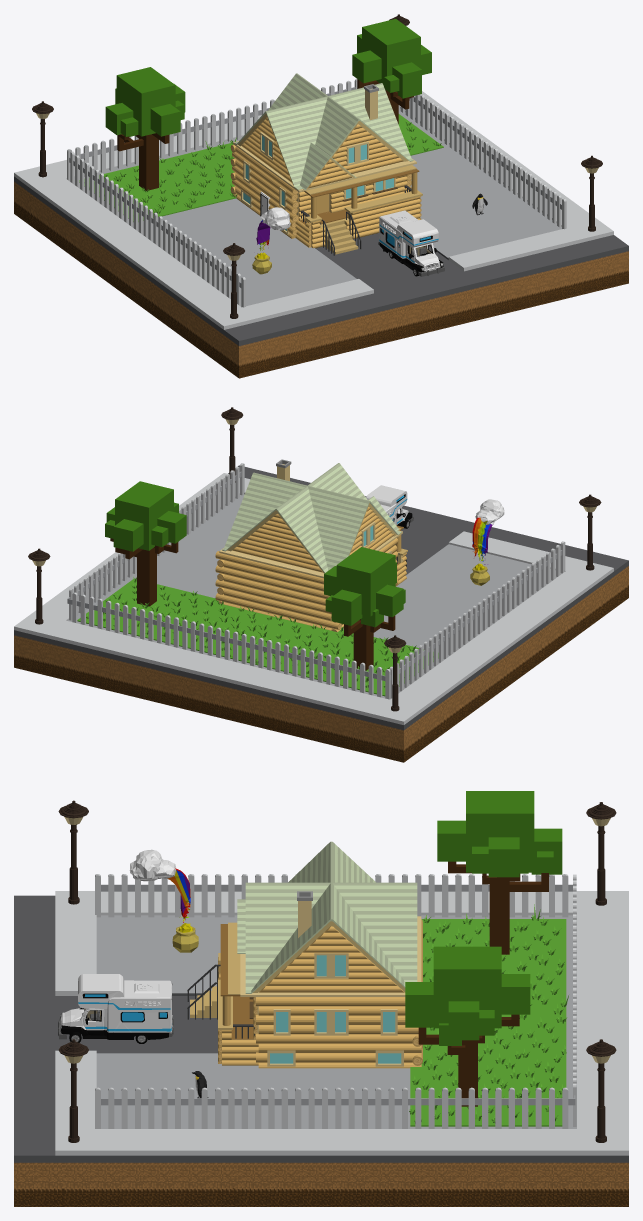
3 renders of one model, top to bottom at view 1: azimuth 30°, elevation 25°; view 2: azimuth 150°, elevation 25°; view 3: azimuth 270°, elevation 25°, orthographic. The views are drawn at different scales.
Visible parts, largest first — view 1: Cube.004, Cube.1516, VEHICLES_CAMPER, OBJRANDOM_RAINBOW; view 2: Cube.004, Cube.1516, OBJRANDOM_RAINBOW, VEHICLES_CAMPER; view 3: Cube.004, Cube.1516, VEHICLES_CAMPER, OBJRANDOM_RAINBOW.
Part boxes in pixels (x1=…): Cube.004: x1=14, y1=14, x2=628, y2=378; Cube.1516: x1=230, y1=73, x2=422, y2=255; VEHICLES_CAMPER: x1=378, y1=210, x2=444, y2=276; OBJRANDOM_RAINBOW: x1=252, y1=207, x2=290, y2=274; Cube.004: x1=14, y1=407, x2=628, y2=762; Cube.1516: x1=215, y1=459, x2=407, y2=632; OBJRANDOM_RAINBOW: x1=470, y1=499, x2=504, y2=585; VEHICLES_CAMPER: x1=366, y1=485, x2=413, y2=528; Cube.004: x1=14, y1=791, x2=628, y2=1206; Cube.1516: x1=187, y1=841, x2=422, y2=1068; VEHICLES_CAMPER: x1=58, y1=974, x2=173, y2=1043; OBJRANDOM_RAINBOW: x1=129, y1=849, x2=198, y2=952.
Size of the model in its own units: 4000 by 1607 by 4000.
41 materials, 4 textured.
